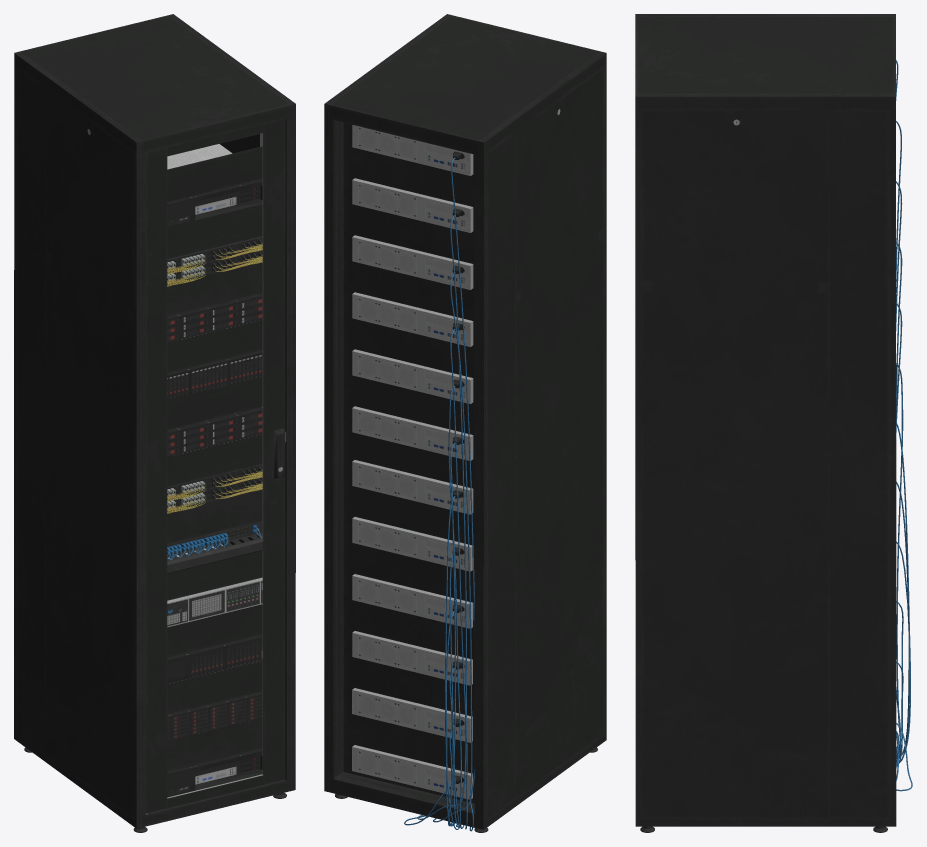
The picture shows the model from 3 angles, left to right: view 1: azimuth 30°, elevation 25°; view 2: azimuth 150°, elevation 25°; view 3: azimuth 270°, elevation 25°; orthographic projection. The views are drawn at different scales.
Visible parts, largest first — view 1: SM_Server_Case_001, SM_Server_Case_Door_001, SM_Servers_1_001_1, SM_Server_7_001, SM_Servers_2_001, SM_Servers_2_001_1, SM_Server_6_001, SM_Servers_5_001, SM_Servers_4_001, SM_Servers_3_001, SM_Server_8_001_1, SM_Servers_1_001 (+1 smaller); view 2: SM_Server_Case_001, SM_Back_001; view 3: SM_Server_Case_001, SM_Back_001.
Boxes of the visible parts, x1=… form: SM_Server_Case_001: x1=14, y1=14, x2=295, y2=832; SM_Server_Case_Door_001: x1=145, y1=118, x2=285, y2=813; SM_Servers_1_001_1: x1=167, y1=144, x2=262, y2=228; SM_Server_7_001: x1=167, y1=521, x2=263, y2=573; SM_Servers_2_001: x1=167, y1=407, x2=262, y2=457; SM_Servers_2_001_1: x1=167, y1=293, x2=262, y2=343; SM_Server_6_001: x1=167, y1=544, x2=262, y2=627; SM_Servers_5_001: x1=167, y1=691, x2=262, y2=741; SM_Servers_4_001: x1=167, y1=634, x2=262, y2=684; SM_Servers_3_001: x1=167, y1=350, x2=262, y2=399; SM_Server_8_001_1: x1=167, y1=236, x2=262, y2=286; SM_Servers_1_001: x1=167, y1=748, x2=262, y2=797; SM_Server_Case_001: x1=324, y1=14, x2=606, y2=832; SM_Back_001: x1=352, y1=125, x2=474, y2=831; SM_Server_Case_001: x1=635, y1=14, x2=896, y2=832; SM_Back_001: x1=896, y1=60, x2=912, y2=791.
Size of what is drawn, in the model's own units: 0.6 by 2.5 by 0.852.
3 materials, 3 textured.
